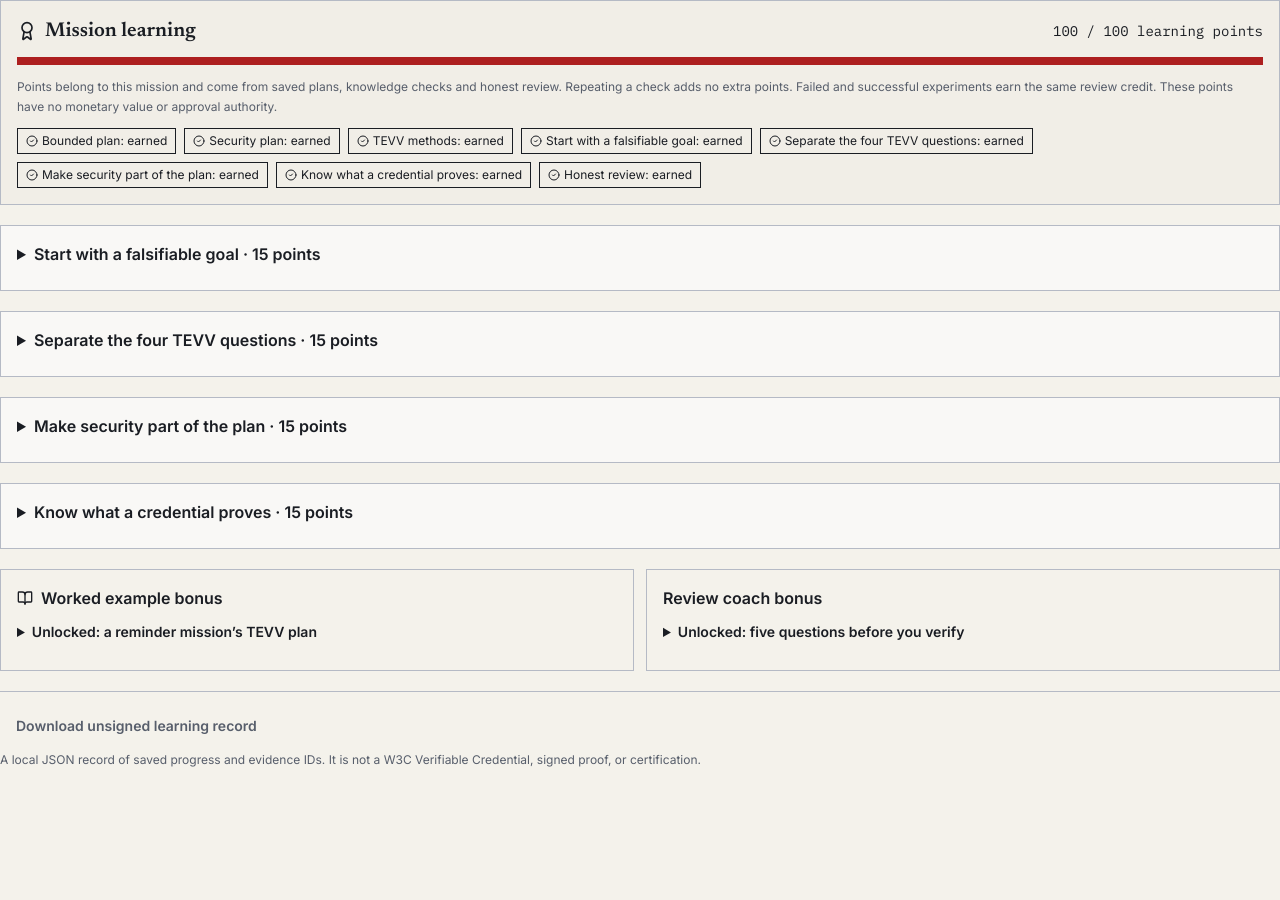
Test: educational rewards › unlocks useful examples and a review coach from saved progress
The image size is (1280, 900).
Click the heading "Unlocked: a reminder mission’s TEVV plan".
click(174, 632)  # box [32,623,317,640]
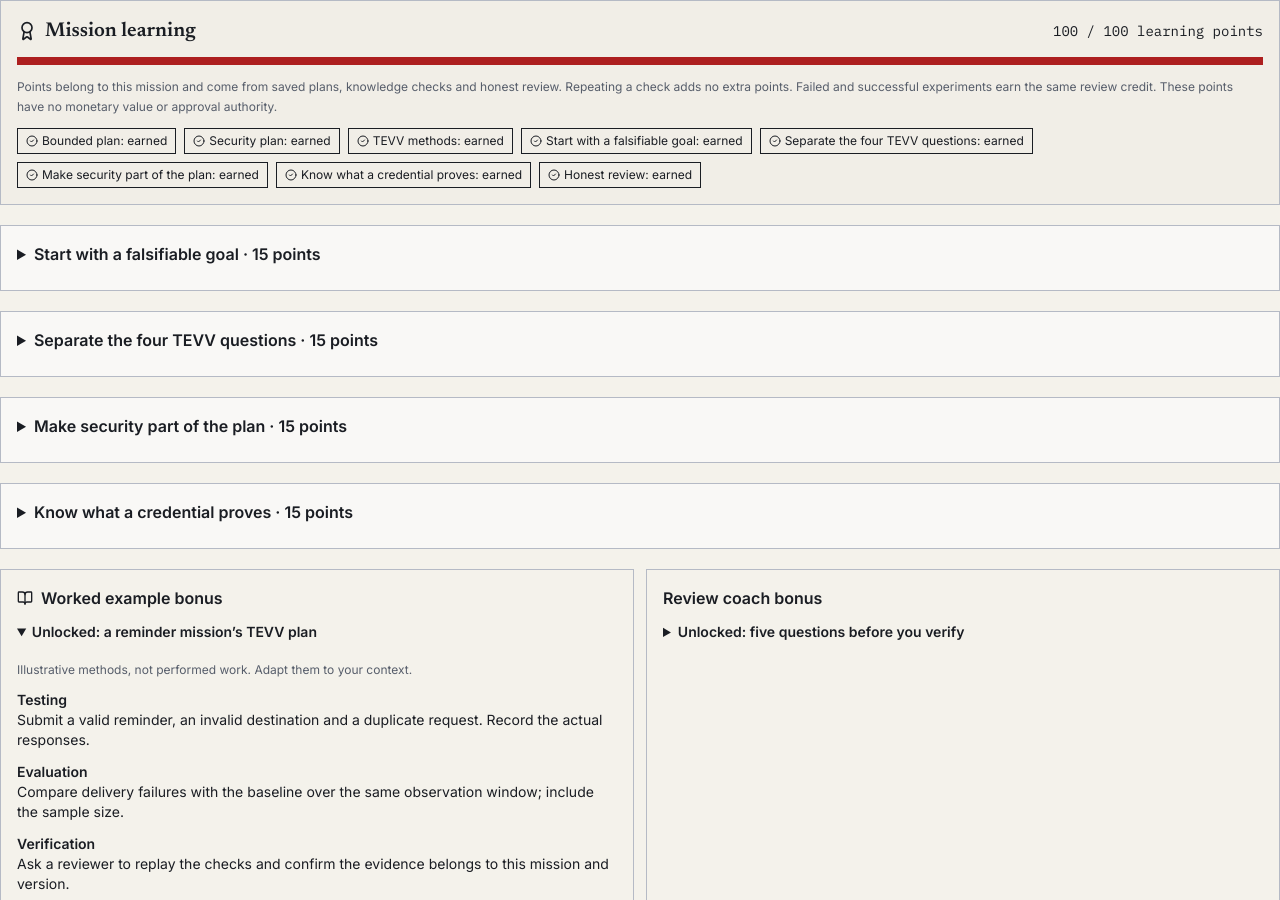
Result: the text "Illustrative methods, not performed work" is shown at [17,662,412,677]
Click the heading "Unlocked: five questions before you verify".
click(821, 632)  # box [678,623,964,640]
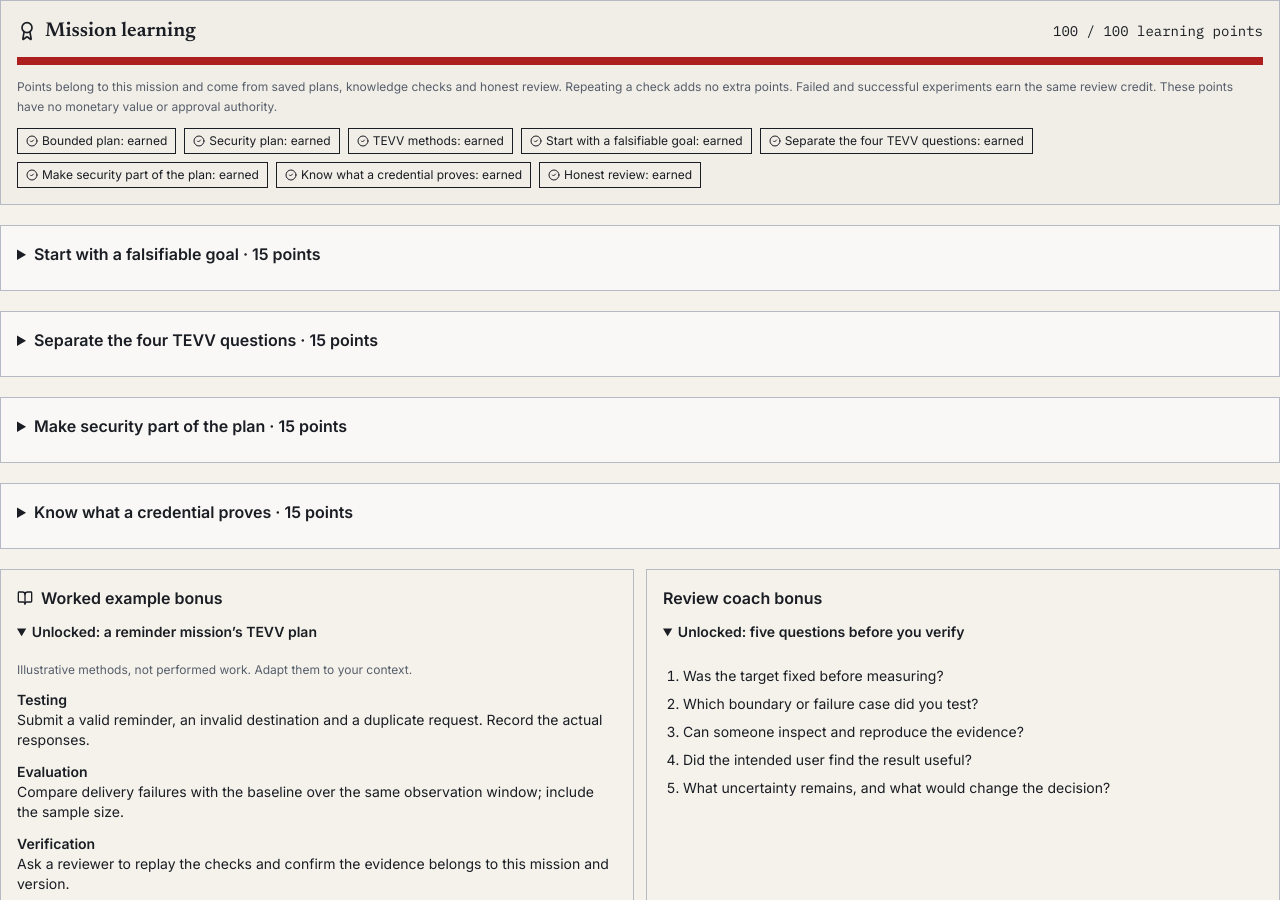
Result: the list item "Was the target fixed before measuring?" is shown at [683,667,944,684]
